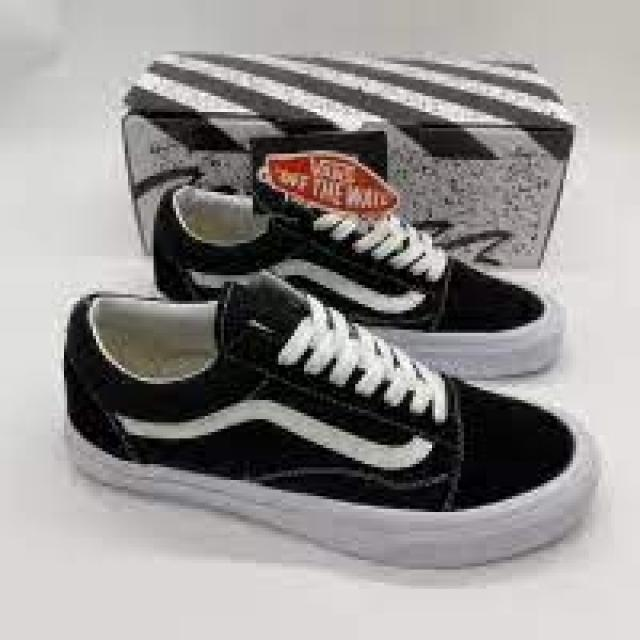shoe: (56, 138, 604, 572), (64, 272, 597, 568)
